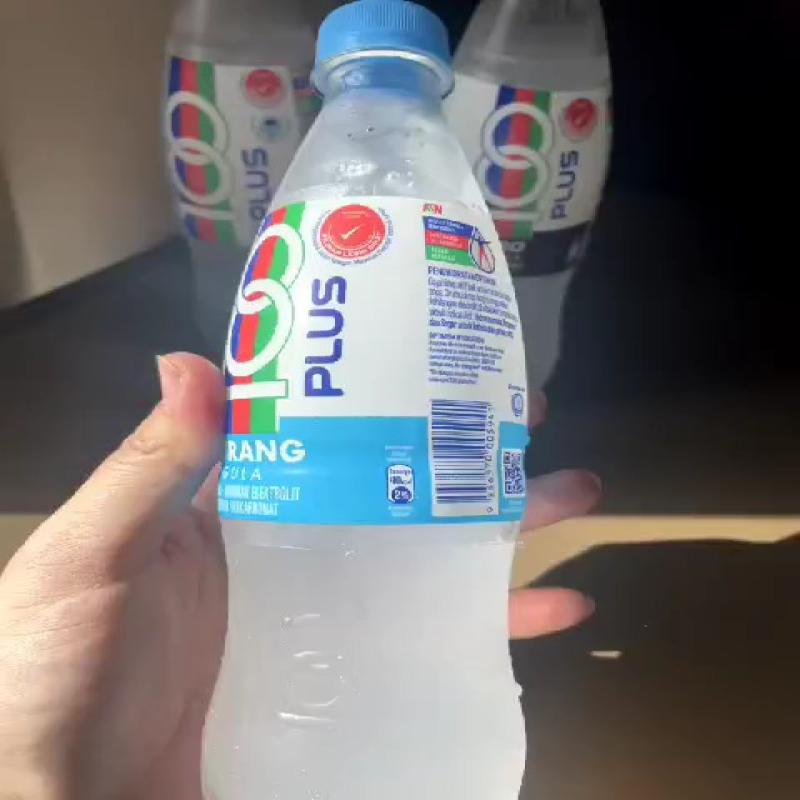botella: (208, 0, 509, 800), (451, 0, 616, 434), (164, 0, 323, 339)
